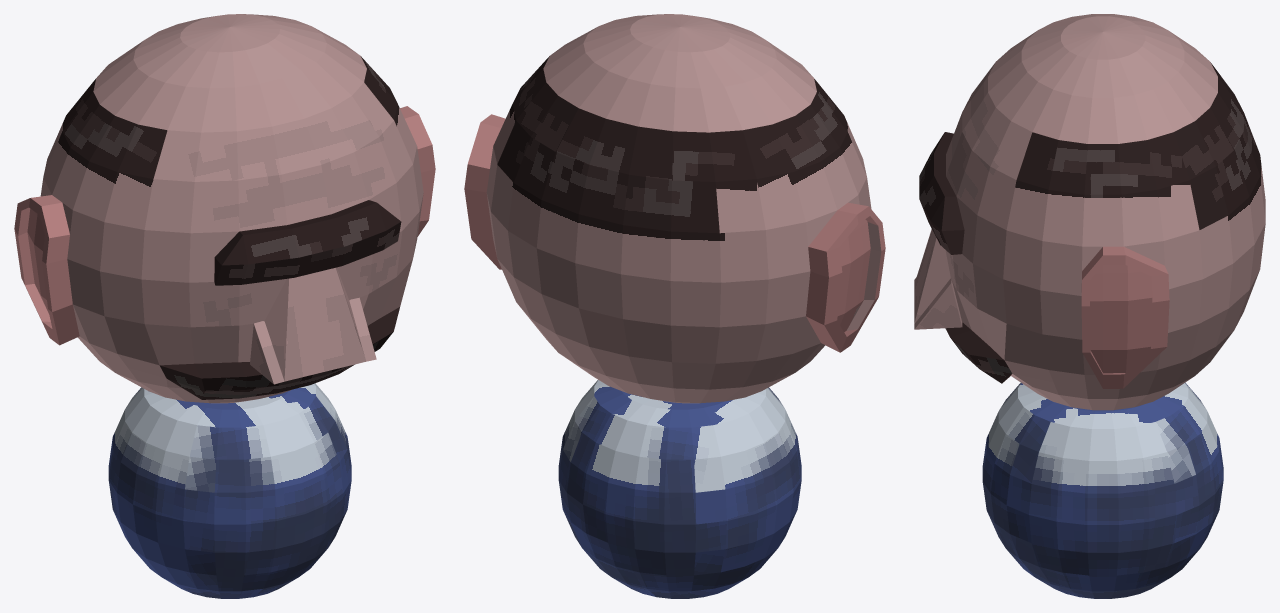
File: workerHappy.gltf
The picture shows the model from 3 angles, left to right: view 1: azimuth 30°, elevation 25°; view 2: azimuth 150°, elevation 25°; view 3: azimuth 270°, elevation 25°; orthographic projection.
Visible parts, largest first — view 1: Head, Body; view 2: Head, Body; view 3: Head, Body.
Part boxes in pixels (<box>): Head: <box>14,14,435,403</box>; Body: <box>108,383,351,598</box>; Head: <box>464,14,885,403</box>; Body: <box>558,380,801,598</box>; Head: <box>914,14,1265,410</box>; Body: <box>982,382,1223,598</box>.
Bounding box in the file's own units: 2.31 × 3.19 × 1.82.
2 materials, 2 textured.
